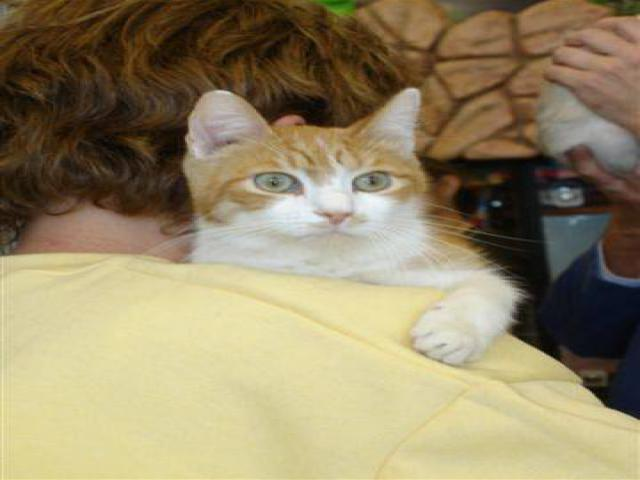cat: (170, 81, 541, 370)
